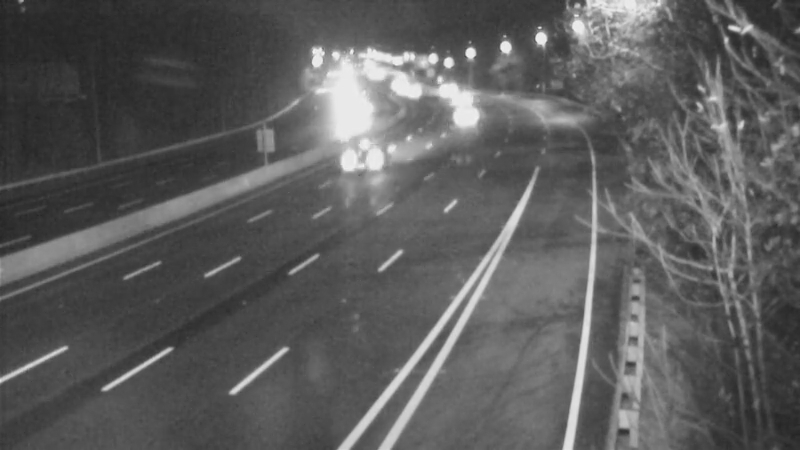vehicle: (321, 121, 401, 201), (387, 65, 437, 115), (422, 66, 472, 116), (435, 81, 485, 131), (440, 97, 490, 147), (324, 92, 374, 142)
